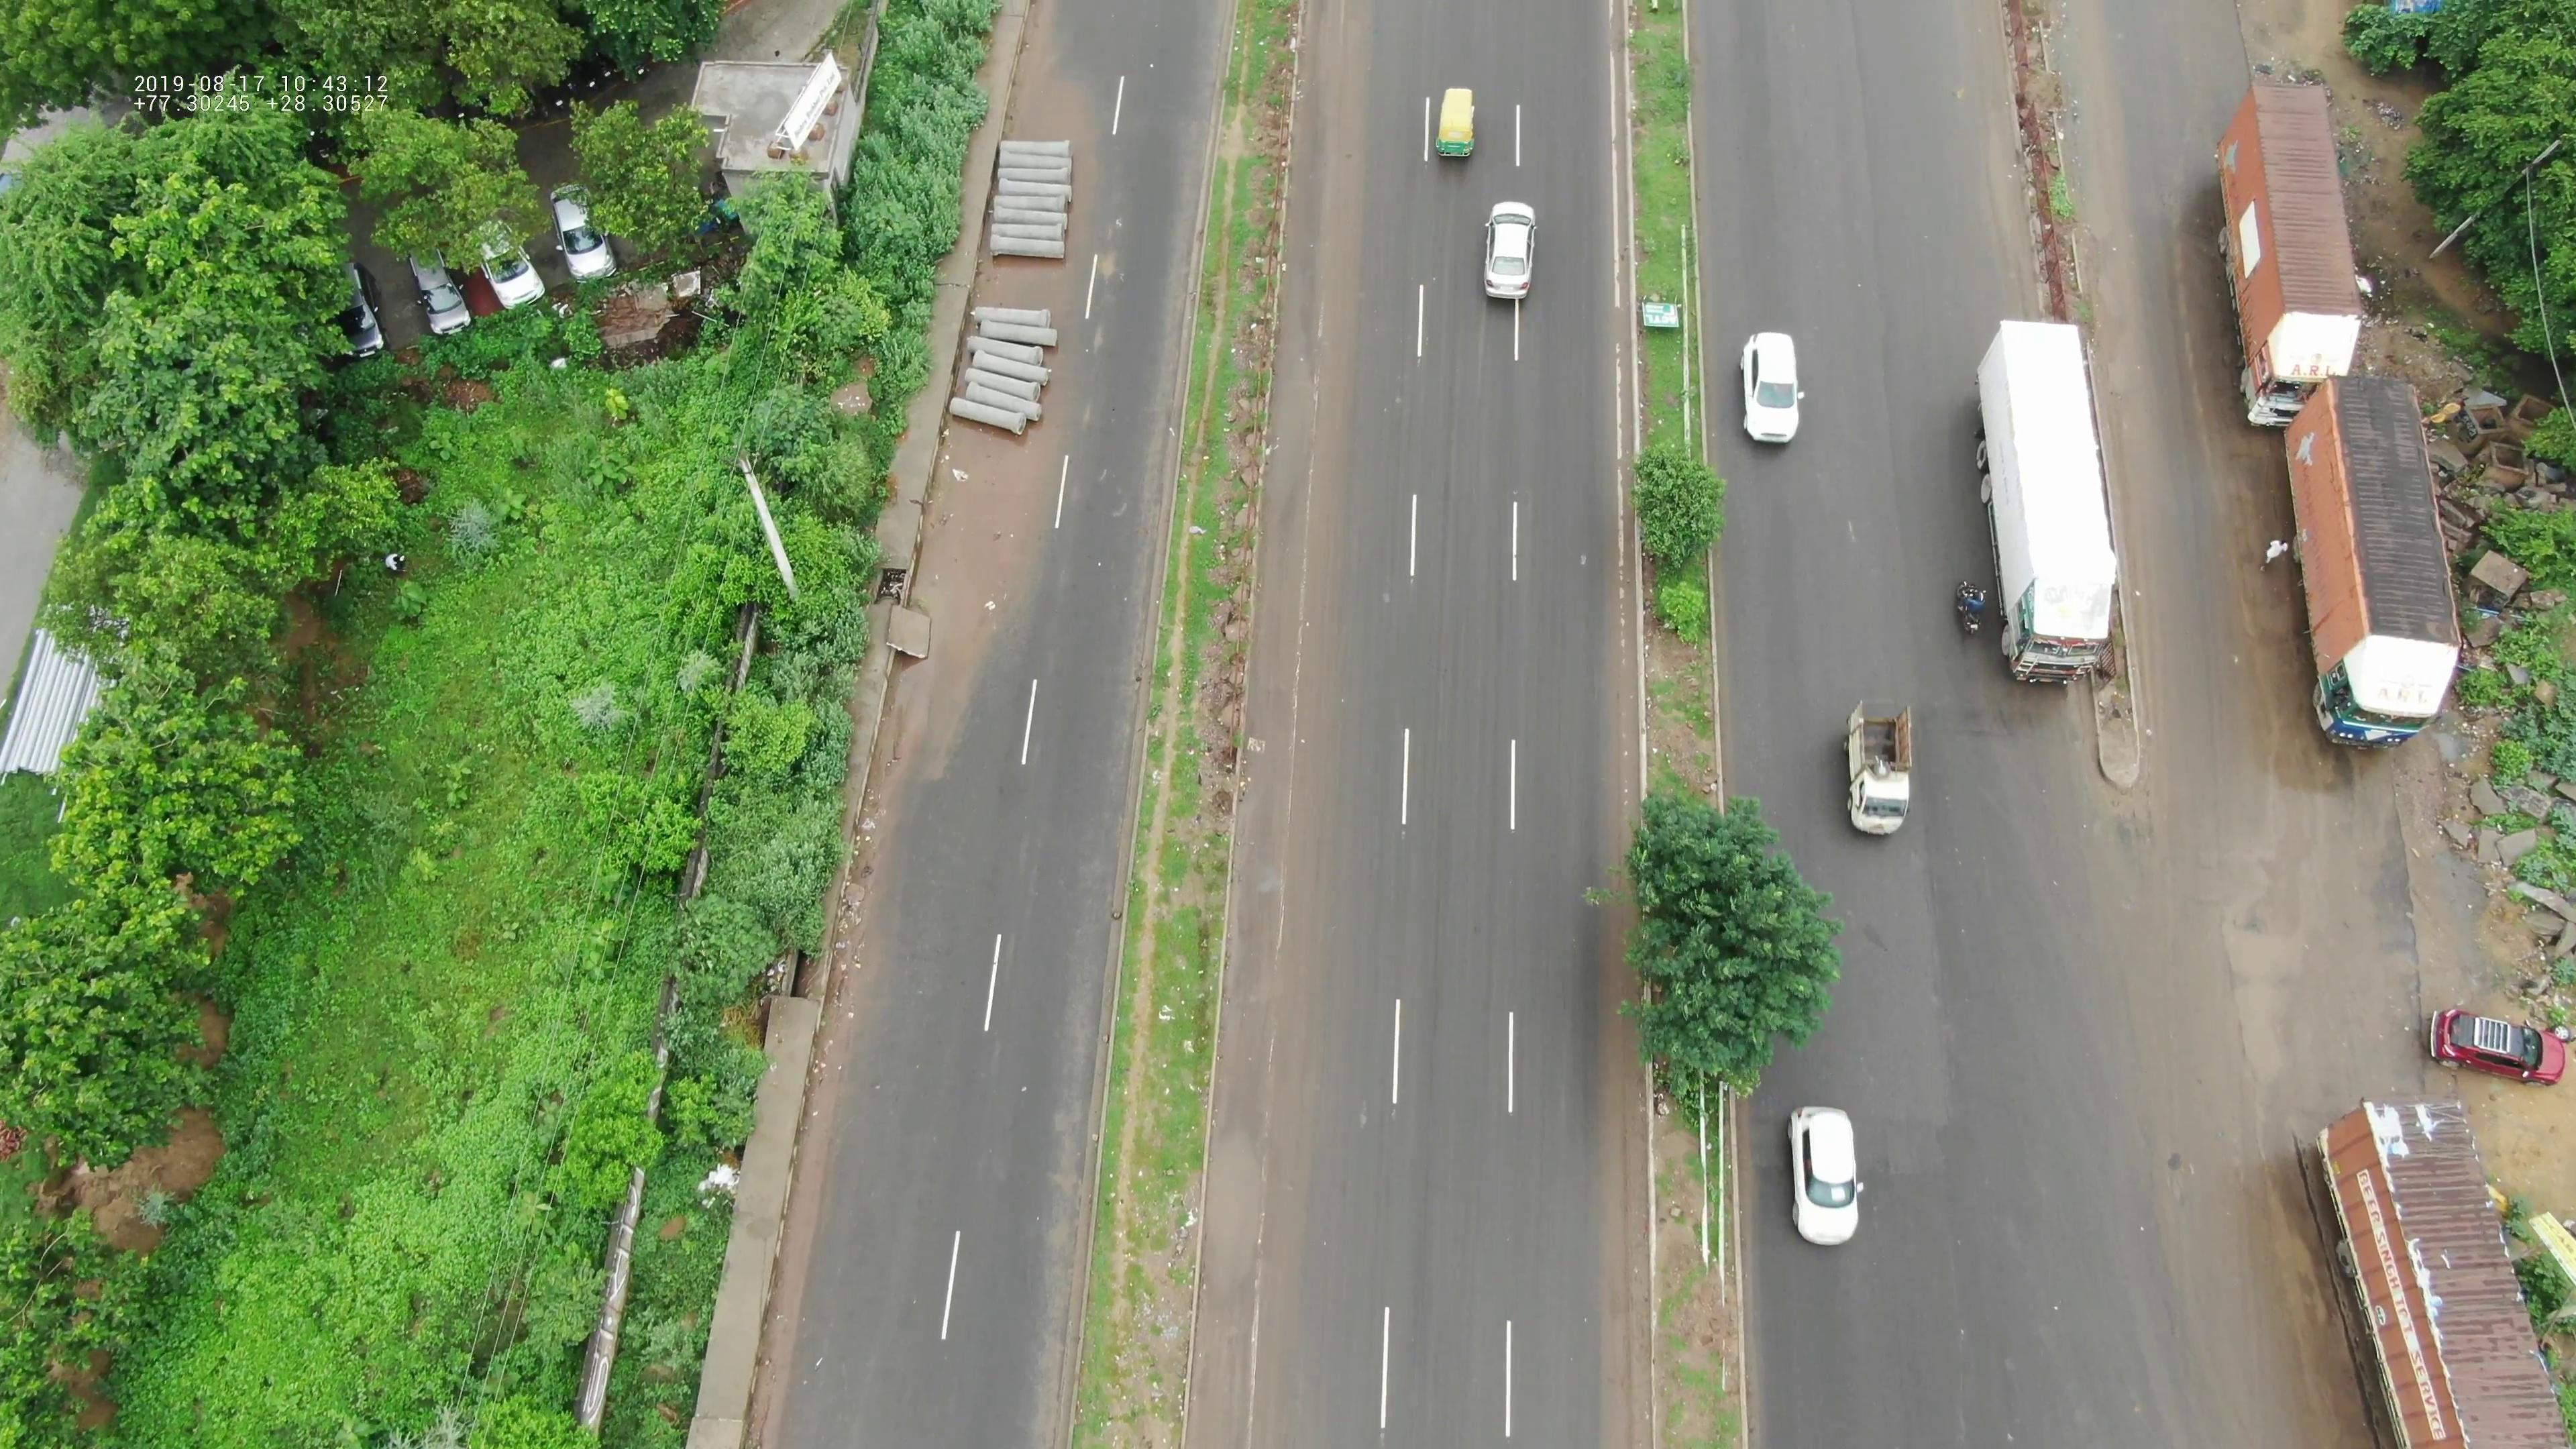Muddy_road: (908, 426, 1035, 630)
